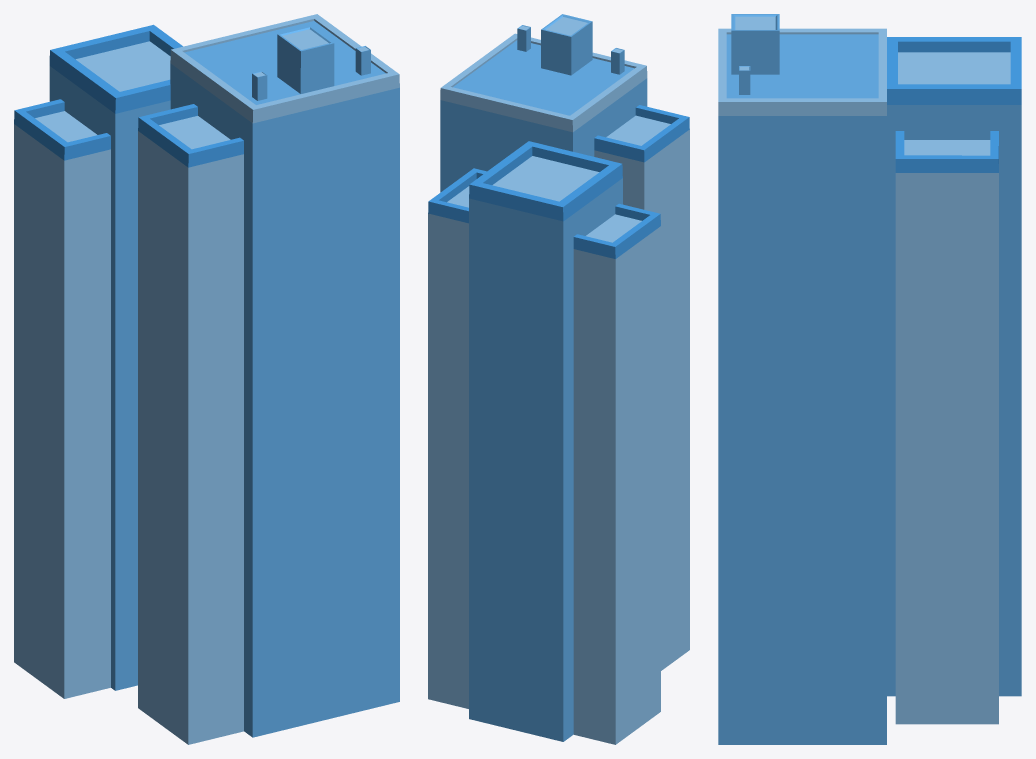
The model's file is house_0wind_1.fbx.
3 views of the same model, side by side, from view 1: azimuth 30°, elevation 25°; view 2: azimuth 150°, elevation 25°; view 3: azimuth 270°, elevation 25° (orthographic). The views are drawn at different scales.
Parts seen in each view (by area): view 1: house_0wind1; view 2: house_0wind1; view 3: house_0wind1.
Part boxes in pixels (<box>): house_0wind1: <box>14,14,399,744</box>; house_0wind1: <box>428,14,689,744</box>; house_0wind1: <box>718,14,1021,744</box>.
Size of the model in its own units: 69.22 by 178 by 71.35.
